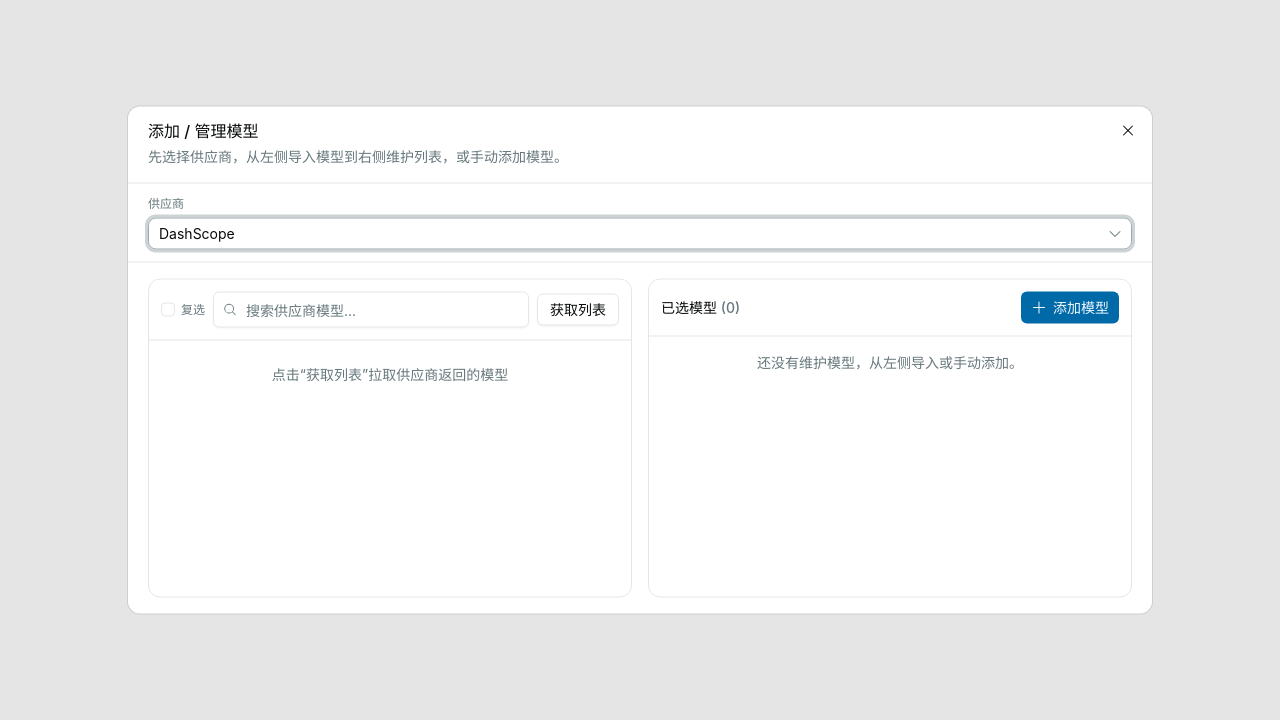
Scenario: ModelImportSheet manual context window › rejects an invalid context window with an error and no POST
Click the button "添加模型" at (1070, 308), box [1021,292,1119,324]
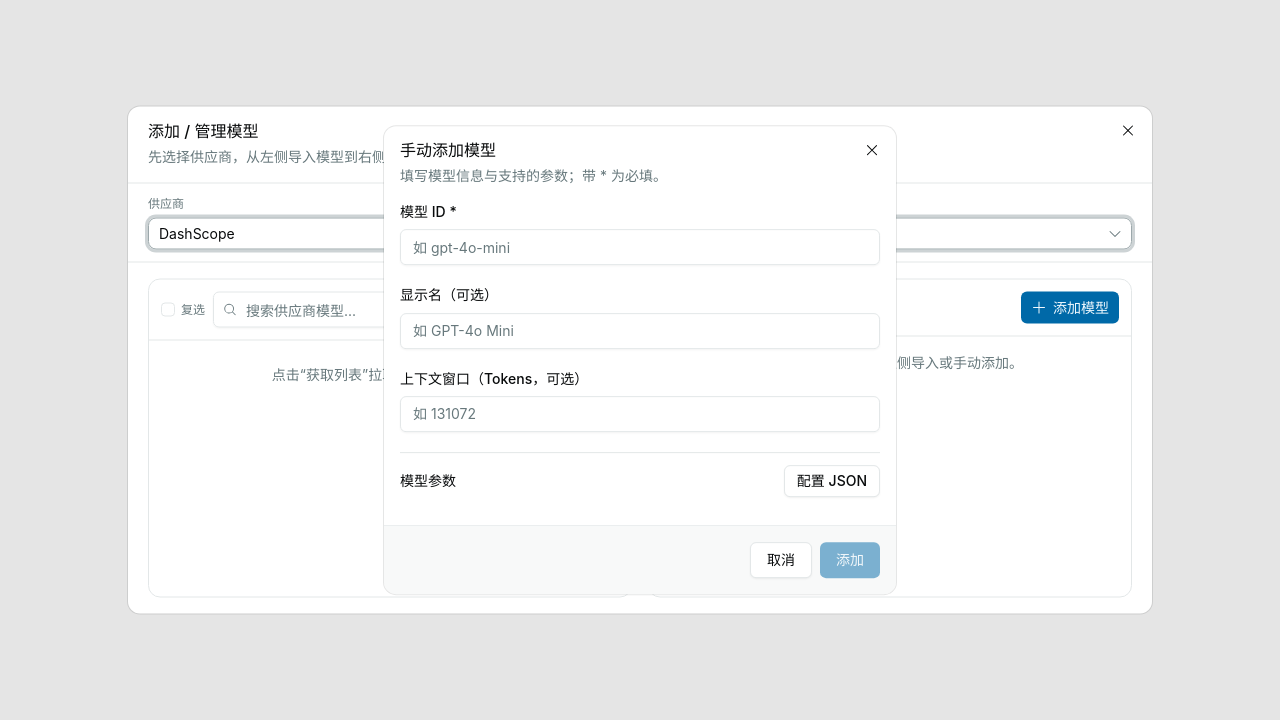
Expected: the heading "手动添加模型" is shown, [400,140,496,160]
Type "test-model" into the field labelled "模型 ID *" at (640, 247), box [400,229,880,265]
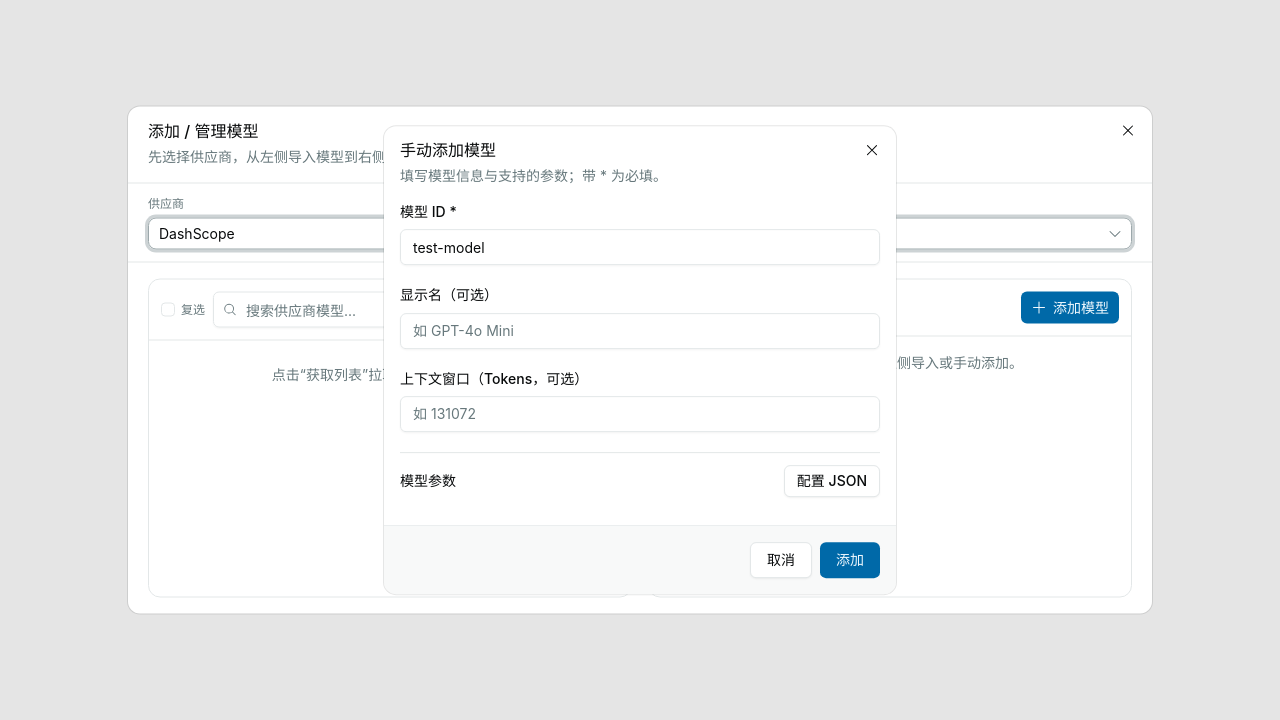
Type "-5" into the number field labelled "上下文窗口（Tokens，可选）" at (640, 414), box [400,396,880,432]
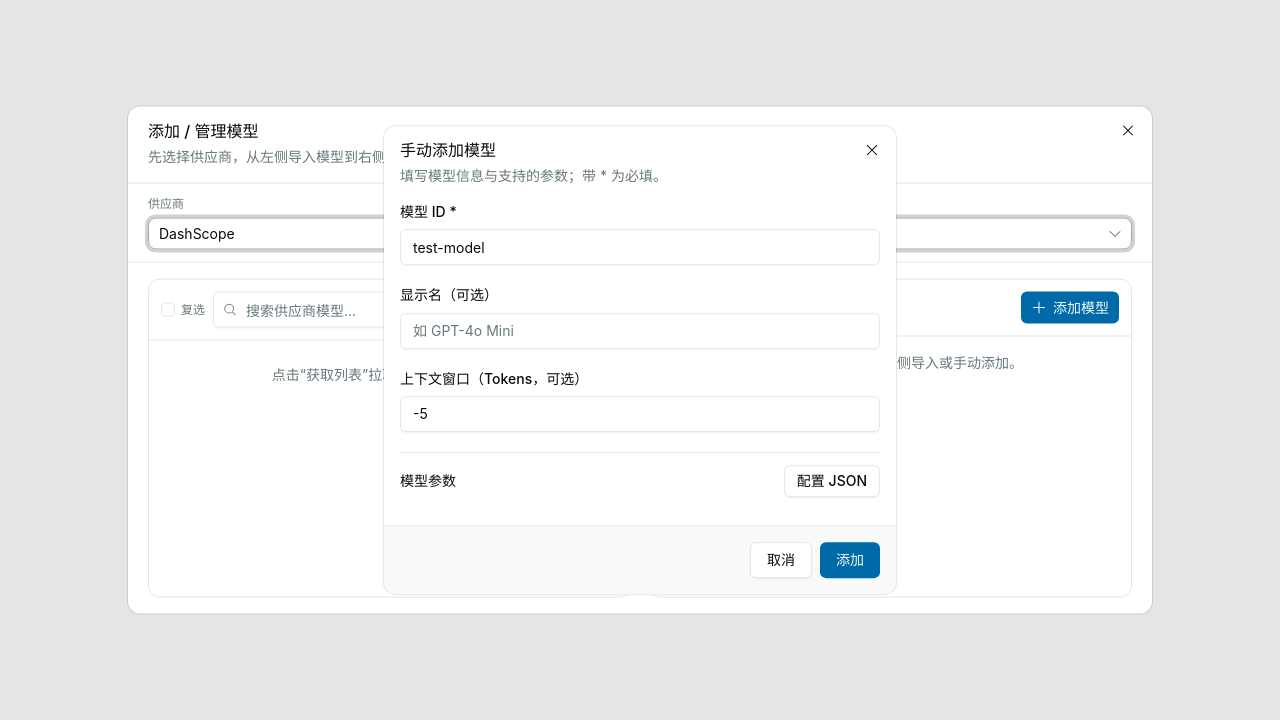
Click the button "添加" at (850, 560), box [820,542,880,578]
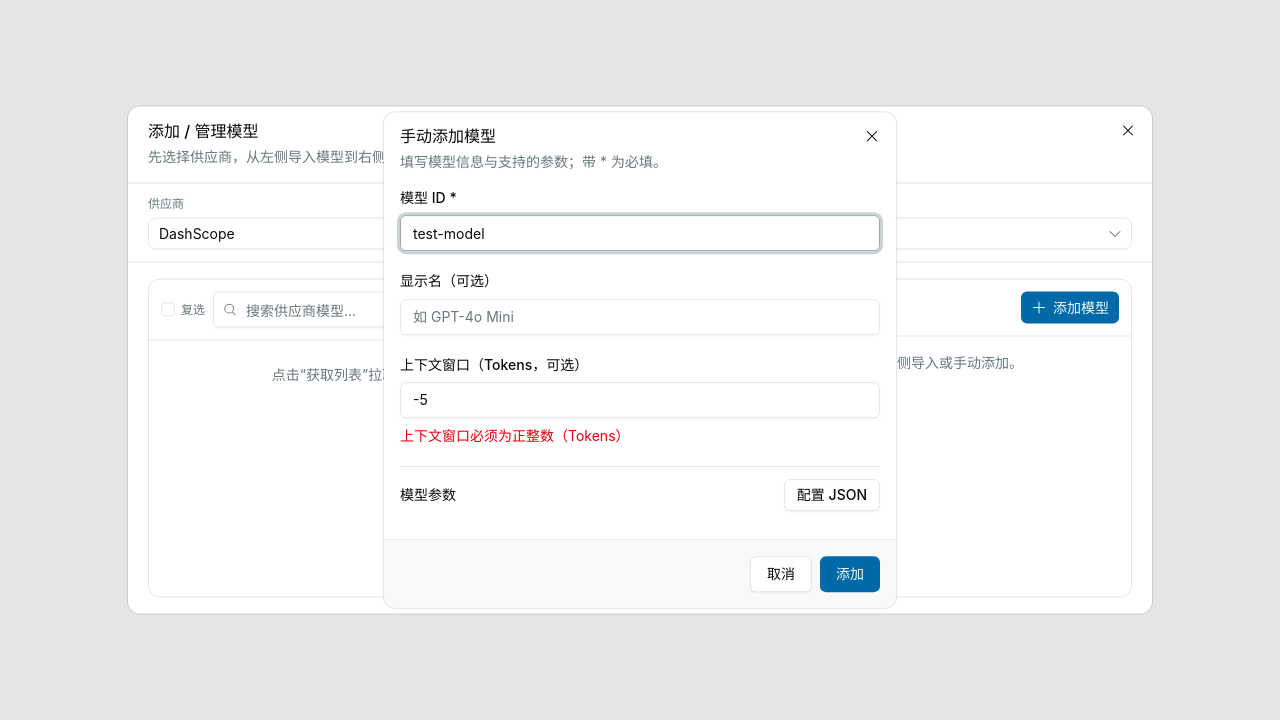
Expected: the message shows "正整数", [400,427,630,444]
